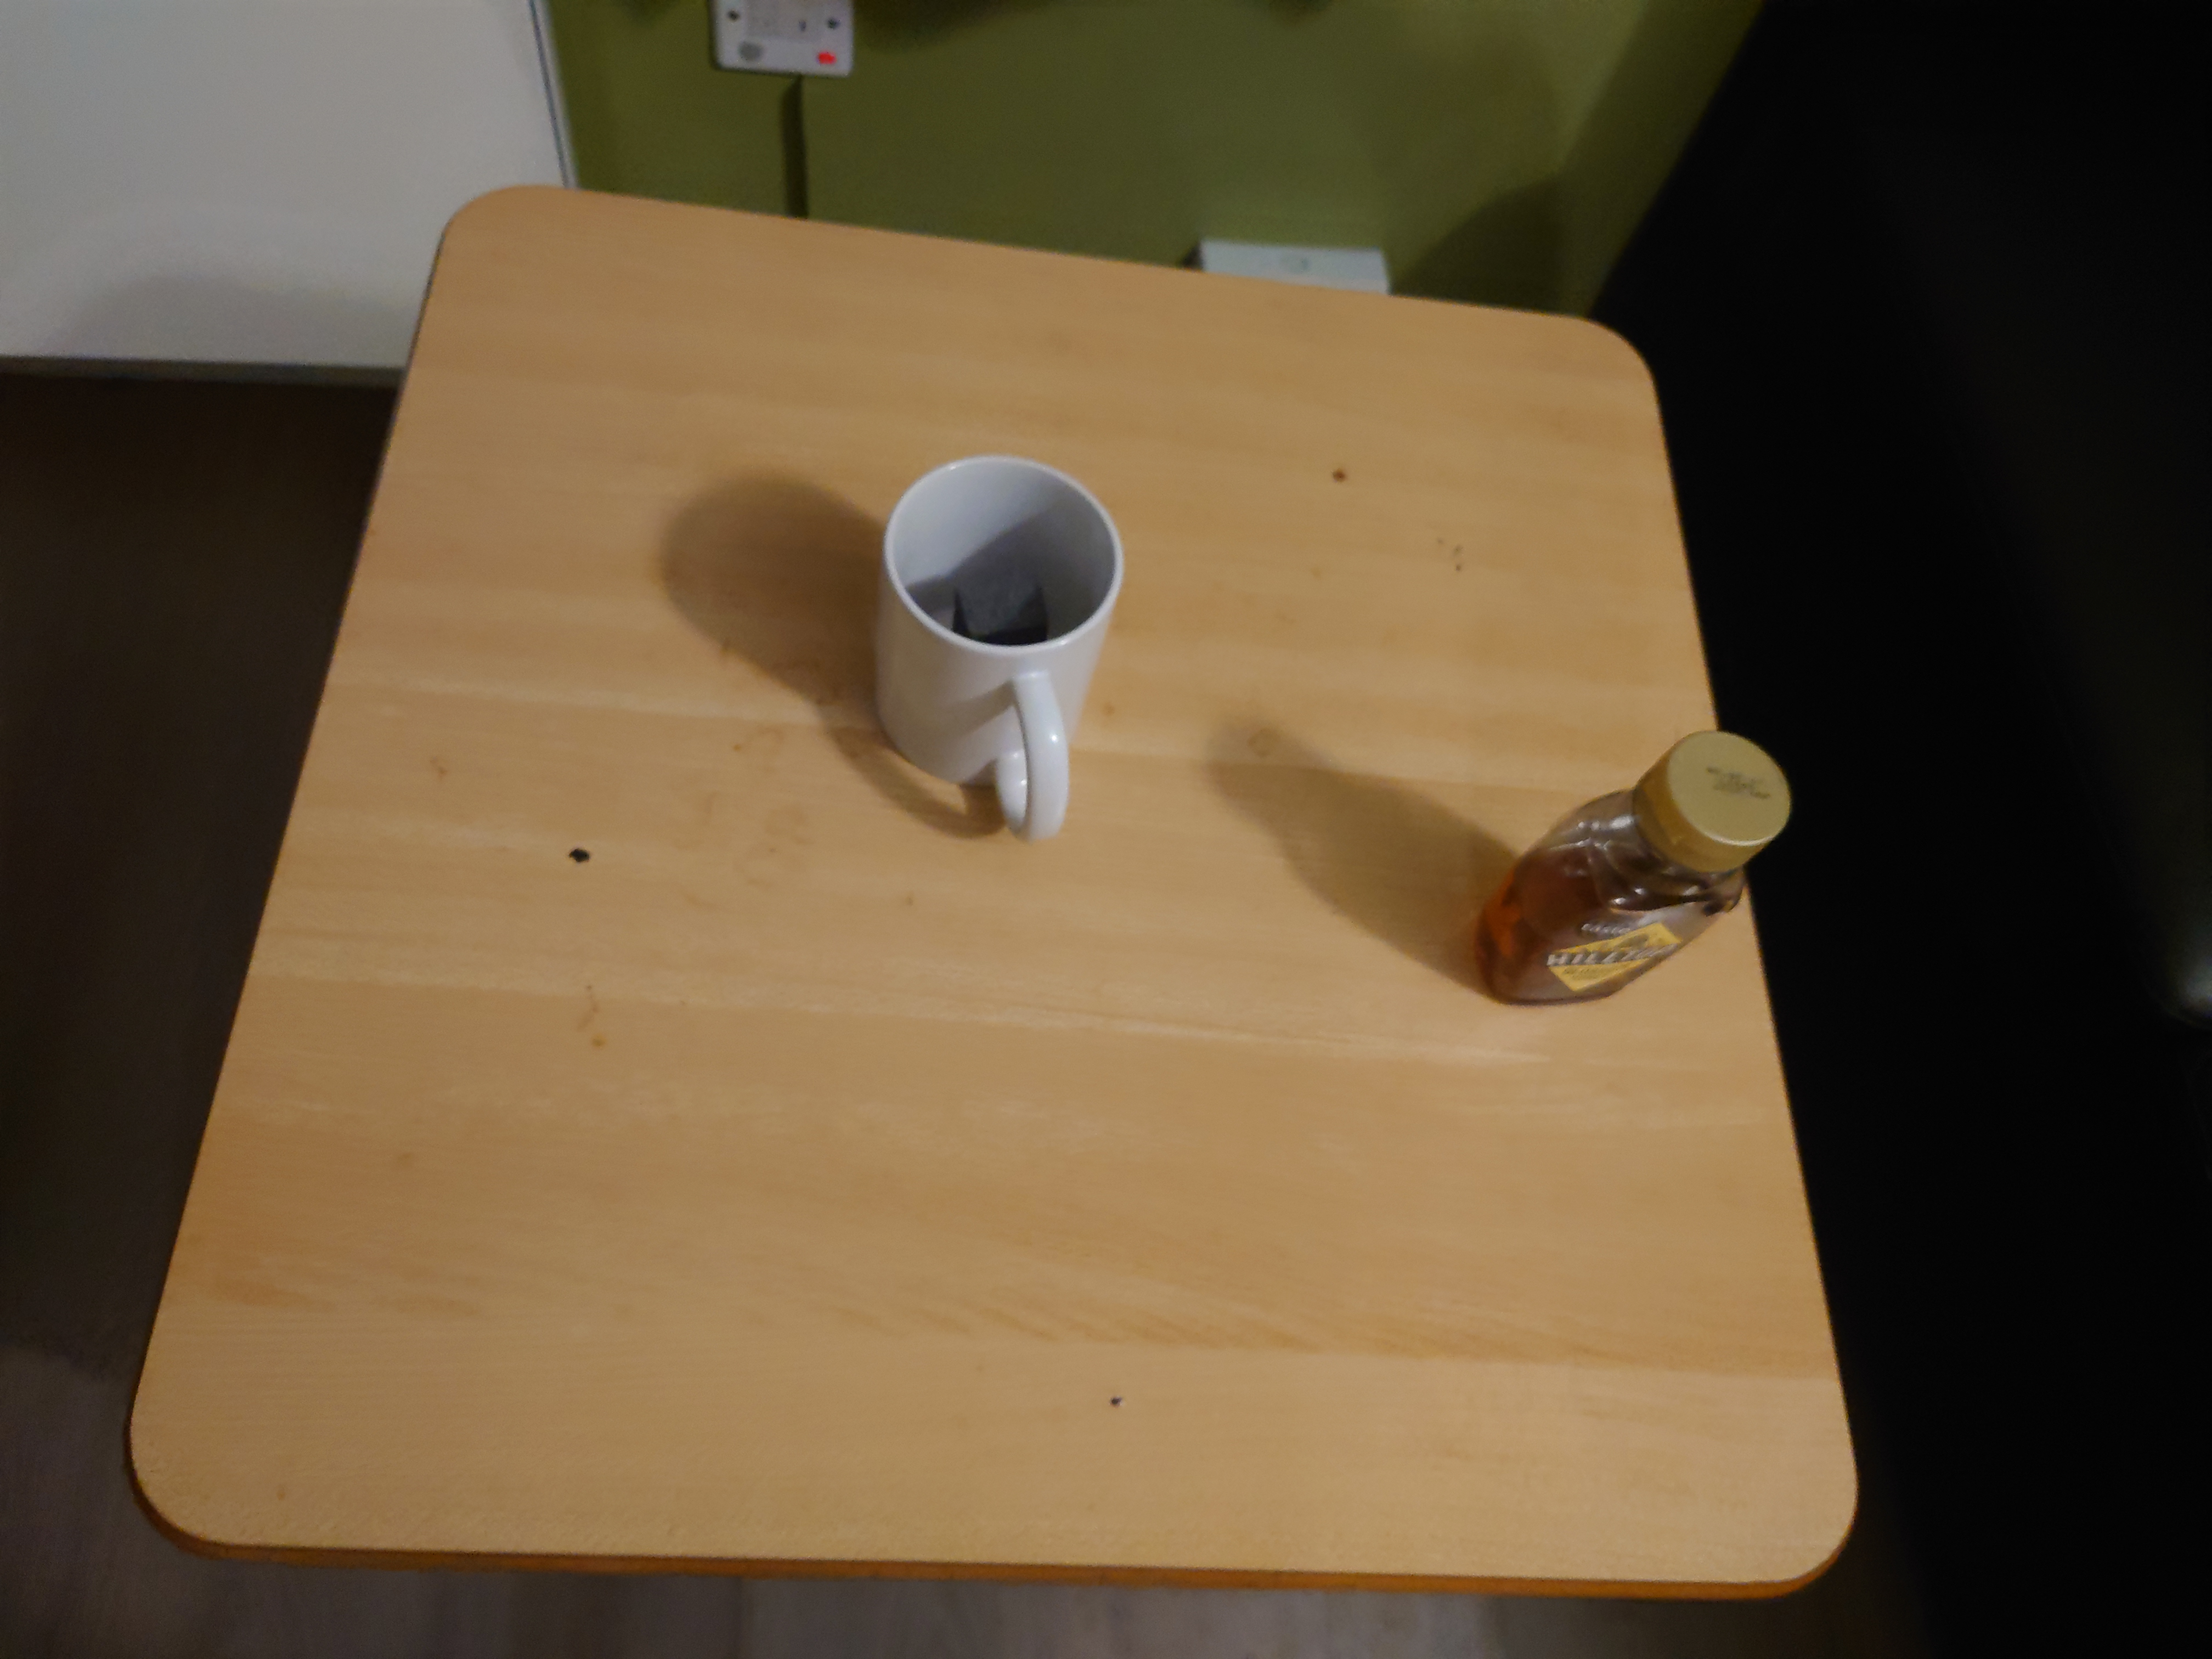cup: (883, 451, 1129, 842)
target: (949, 563, 1052, 758)
